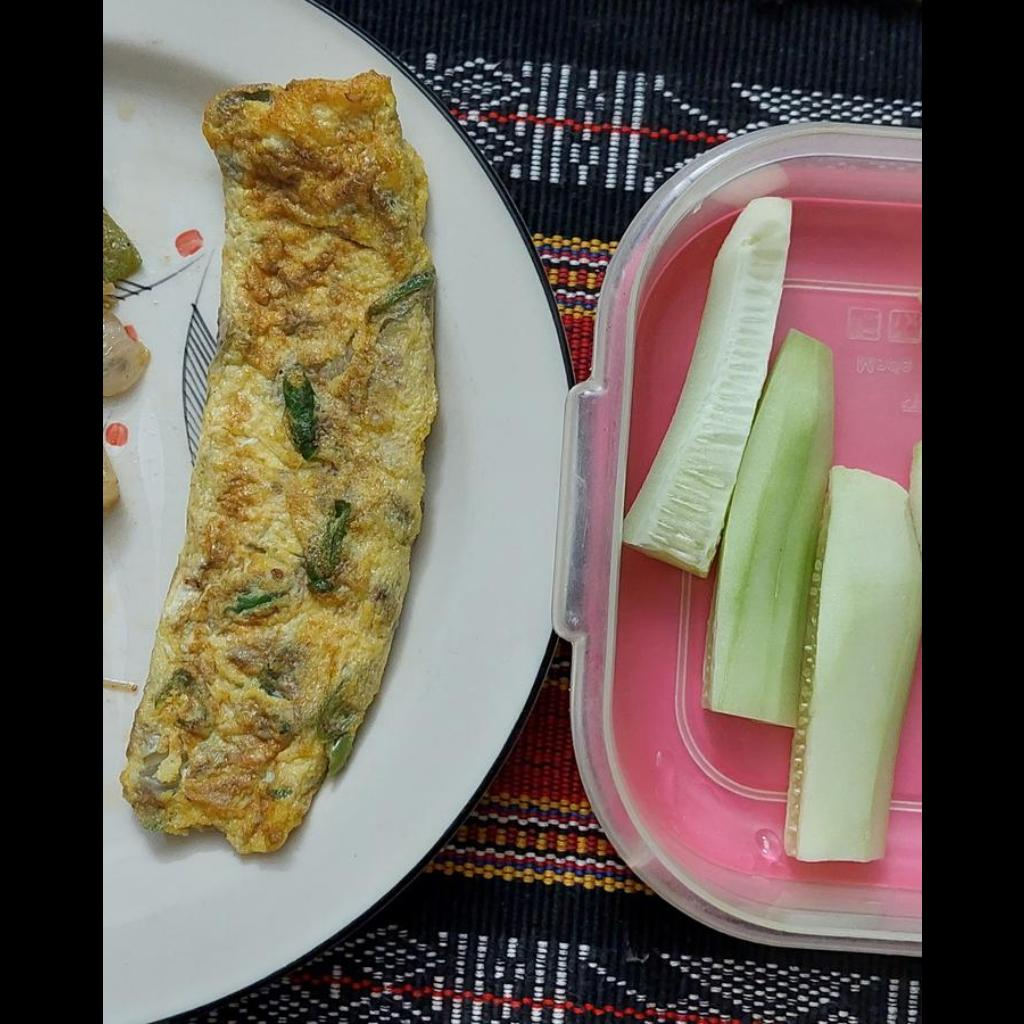cucumber: (614, 199, 918, 860)
egg-poached: (121, 69, 438, 851)
